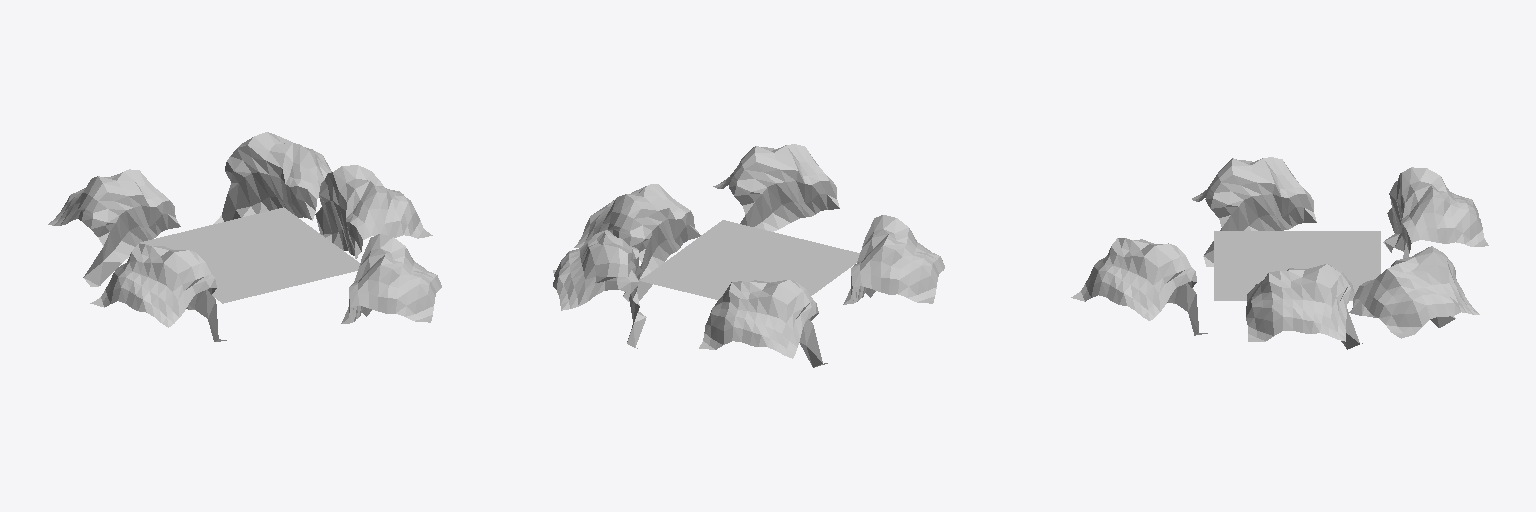
File: floor.obj
3 views of the same model, side by side, from view 1: azimuth 30°, elevation 25°; view 2: azimuth 150°, elevation 25°; view 3: azimuth 270°, elevation 25° (orthographic).
Visible parts, largest first — view 1: Plane, Plane.005_Plane.009, Plane.003_Plane.007, Plane.001_Plane.005, Plane.002_Plane.006, Plane.004_Plane.008; view 2: Plane, Plane.005_Plane.009, Plane.004_Plane.008, Plane.002_Plane.006, Plane.001_Plane.005, Plane.003_Plane.007; view 3: Plane, Plane.002_Plane.006, Plane.003_Plane.007, Plane.004_Plane.008, Plane.001_Plane.005, Plane.005_Plane.009.
Boxes of the visible parts, x1=… form: Plane: x1=140, y1=207, x2=359, y2=303; Plane.005_Plane.009: x1=48, y1=169, x2=180, y2=286; Plane.003_Plane.007: x1=214, y1=132, x2=331, y2=223; Plane.001_Plane.005: x1=90, y1=244, x2=226, y2=341; Plane.002_Plane.006: x1=315, y1=165, x2=432, y2=258; Plane.004_Plane.008: x1=341, y1=234, x2=441, y2=323; Plane: x1=640, y1=220, x2=859, y2=299; Plane.005_Plane.009: x1=699, y1=280, x2=827, y2=367; Plane.004_Plane.008: x1=713, y1=144, x2=839, y2=231; Plane.002_Plane.006: x1=574, y1=184, x2=700, y2=301; Plane.001_Plane.005: x1=843, y1=215, x2=944, y2=304; Plane.003_Plane.007: x1=553, y1=230, x2=646, y2=348; Plane: x1=1214, y1=231, x2=1380, y2=300; Plane.002_Plane.006: x1=1246, y1=264, x2=1362, y2=349; Plane.003_Plane.007: x1=1349, y1=246, x2=1479, y2=338; Plane.004_Plane.008: x1=1071, y1=238, x2=1207, y2=335; Plane.001_Plane.005: x1=1192, y1=157, x2=1316, y2=266; Plane.005_Plane.009: x1=1383, y1=167, x2=1488, y2=258.
Bounding box in the file's own units: 549 × 148 × 601.